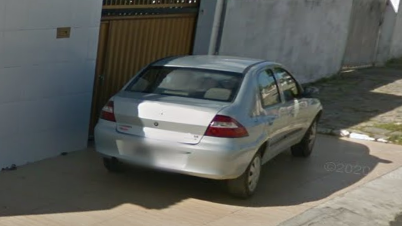car: (93, 54, 324, 201)
